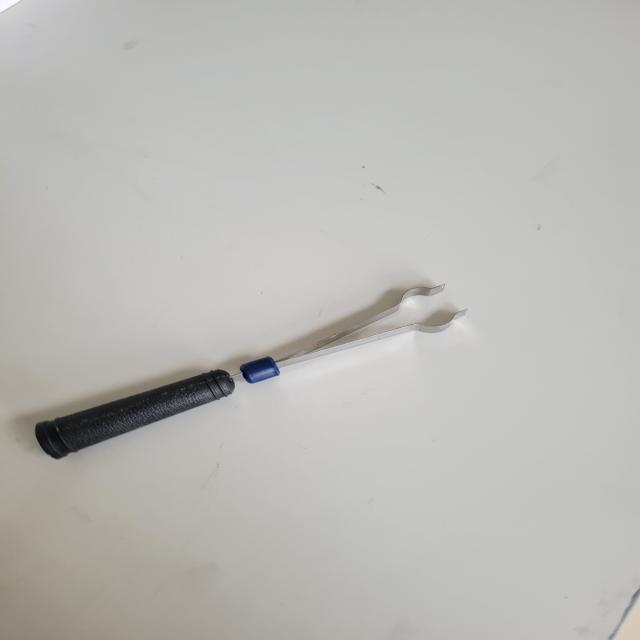TestTube_Holder: (18, 256, 480, 481)
